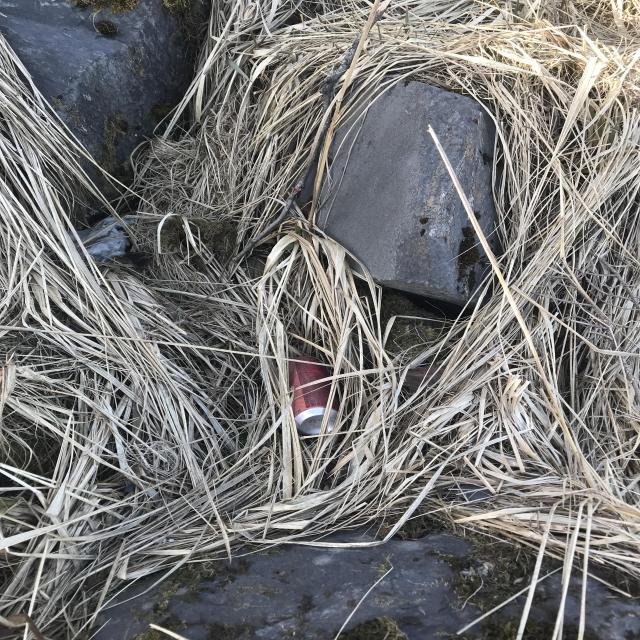litter: (467, 218, 583, 273)
